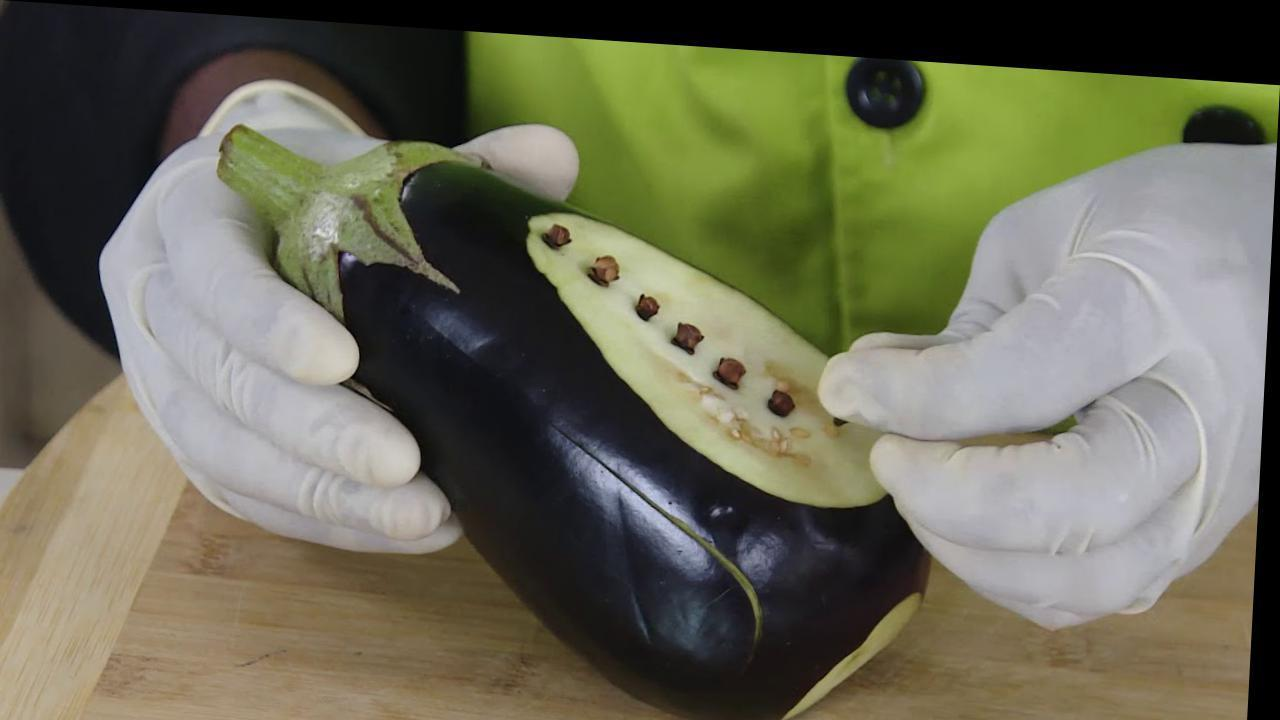eggplant: (344, 198, 976, 675)
